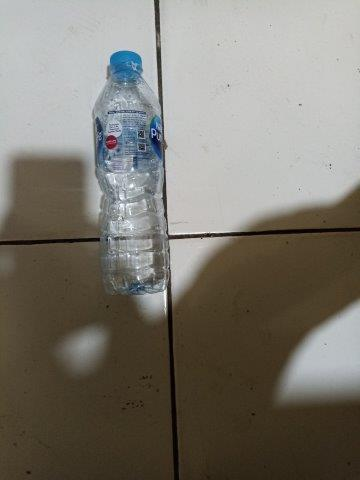botolplastik: (94, 50, 170, 289)
